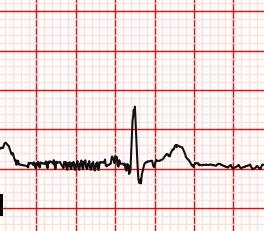LVH: (155, 140, 199, 169)
